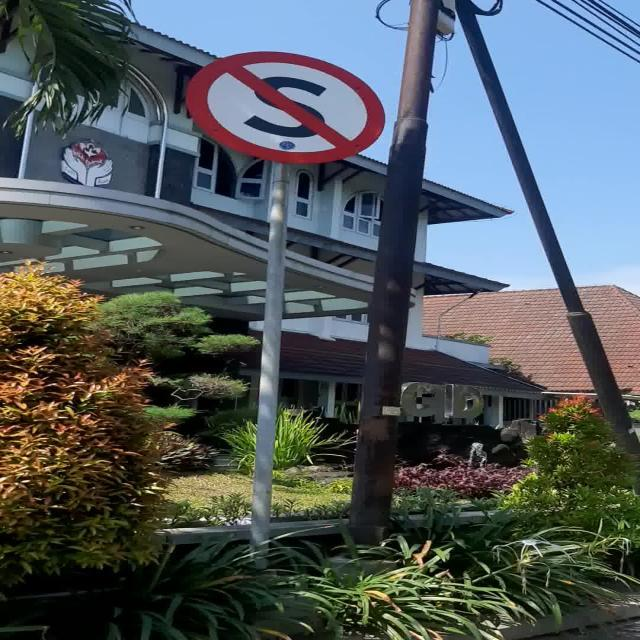Dilarang Berhenti: (186, 52, 386, 163)
